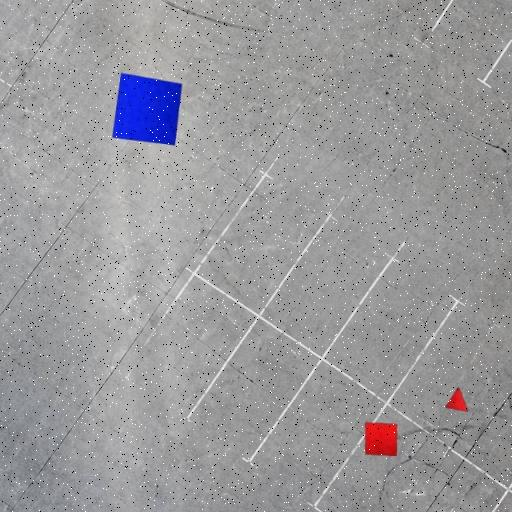BLUE_SQUARE: (112, 72, 183, 146)
RED_SQUARE: (364, 422, 398, 456)
